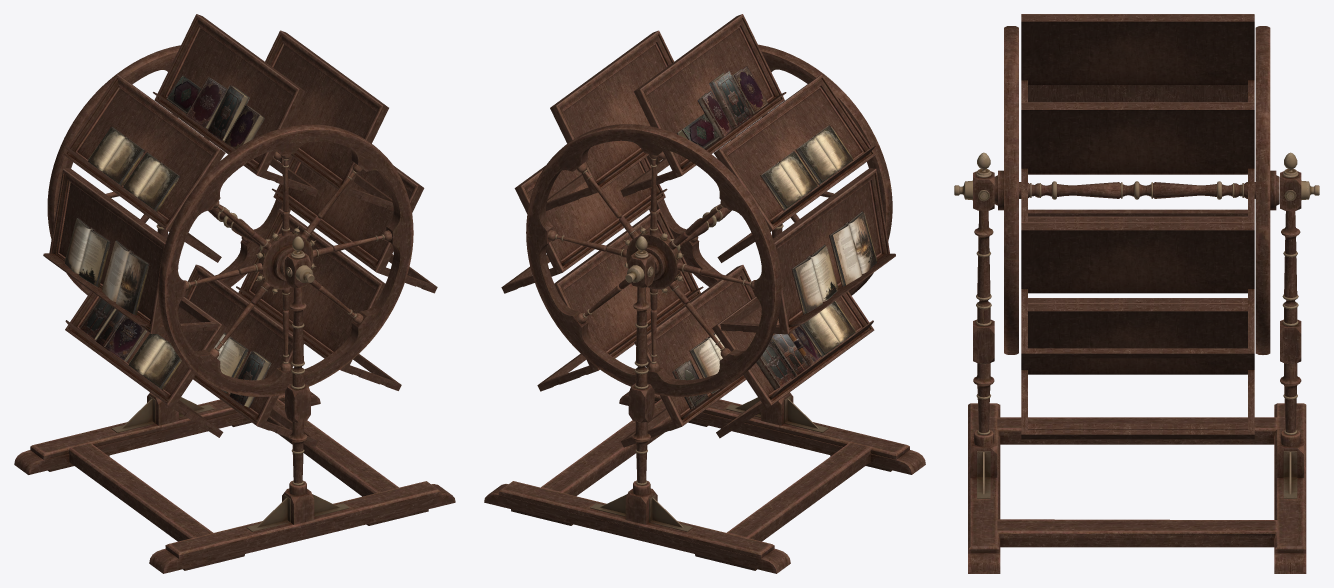
Rendered from bookwheel.glb.
The picture shows the model from 3 angles, left to right: view 1: azimuth 30°, elevation 25°; view 2: azimuth 150°, elevation 25°; view 3: azimuth 270°, elevation 25°; orthographic projection. The views are drawn at different scales.
Parts seen in each view (by area): view 1: Box017_stand_0, Box025_books_0; view 2: Box017_stand_0, Box025_books_0; view 3: Box017_stand_0.
Boxes of the visible parts, <box> form: Box017_stand_0: <box>14,14,455,573</box>; Box025_books_0: <box>64,75,271,408</box>; Box017_stand_0: <box>484,14,925,573</box>; Box025_books_0: <box>672,66,877,409</box>; Box017_stand_0: <box>954,14,1319,573</box>.
Size of the model in its own units: 1.37 by 1.9 by 1.28.
2 materials, 2 textured.
